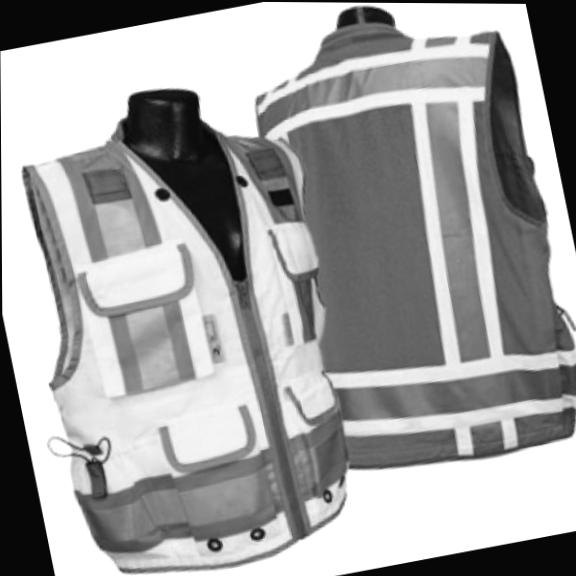safety_vest: (2, 101, 378, 576), (237, 2, 576, 489)
